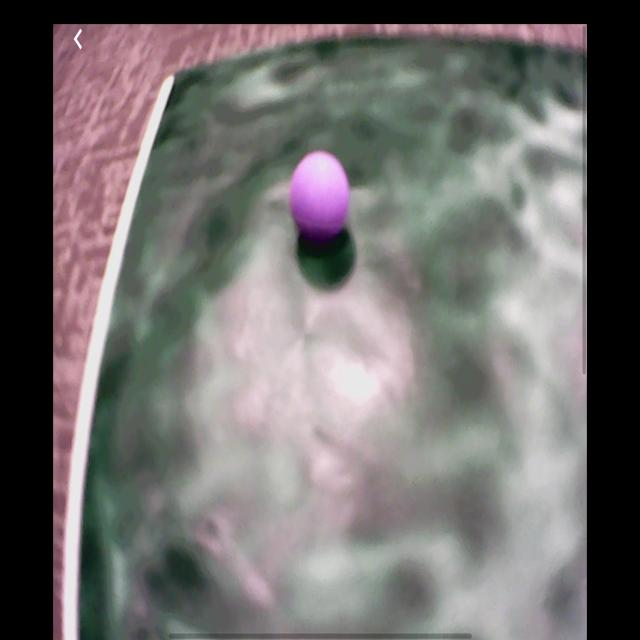ball: (290, 151, 350, 239)
